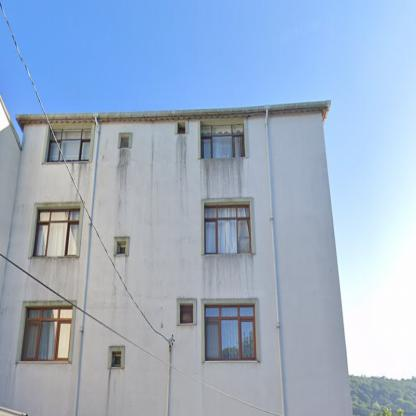window: (205, 305, 255, 360), (24, 308, 73, 358), (204, 204, 252, 252), (34, 209, 79, 255), (48, 127, 91, 162), (201, 125, 245, 158), (180, 306, 193, 323), (120, 136, 129, 147), (178, 125, 184, 133), (115, 355, 120, 364), (120, 245, 126, 252)
